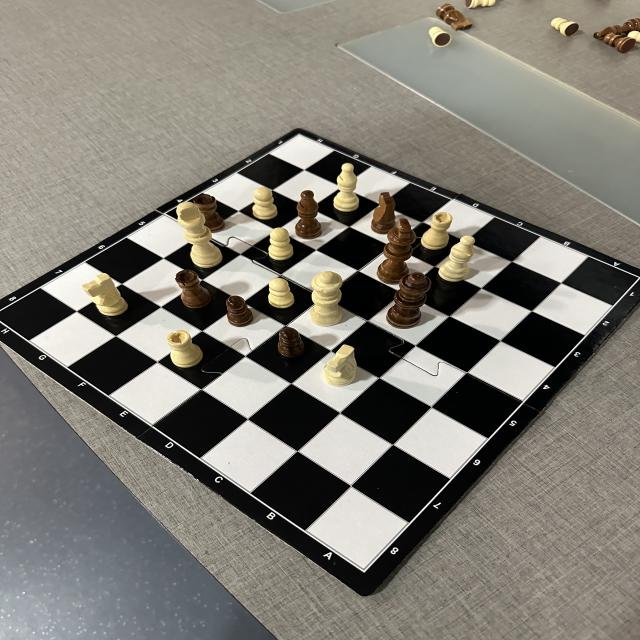Black-Bishop: (295, 190, 323, 239), (594, 18, 640, 39)
Black-King: (376, 218, 417, 285)
Black-Knight: (370, 192, 396, 235), (436, 3, 473, 30)
Black-Pawn: (277, 327, 306, 358), (226, 296, 254, 328), (604, 34, 624, 46)
Black-Queen: (386, 272, 432, 329)
Black-Rook: (174, 270, 212, 308), (194, 194, 225, 233)
White-Bishop: (438, 235, 476, 282), (333, 163, 360, 212)
White-King: (176, 202, 223, 268)
White-Knight: (82, 273, 129, 316), (322, 344, 357, 386)
White-Pawn: (268, 227, 294, 261), (252, 187, 278, 220), (268, 278, 295, 309), (550, 17, 568, 29), (628, 30, 640, 43), (429, 26, 441, 35)
White-Queen: (311, 271, 343, 327)
White-Rook: (166, 330, 204, 368), (421, 212, 453, 250)
